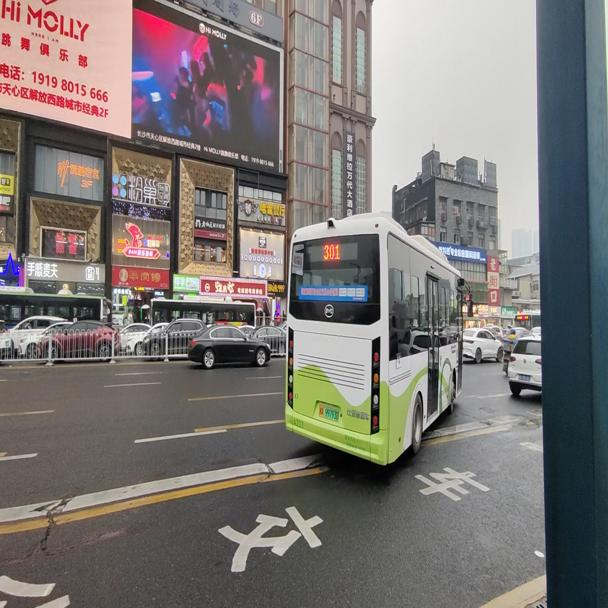bus: (287, 211, 474, 471), (513, 310, 541, 329)
screen: (323, 242, 340, 260)
